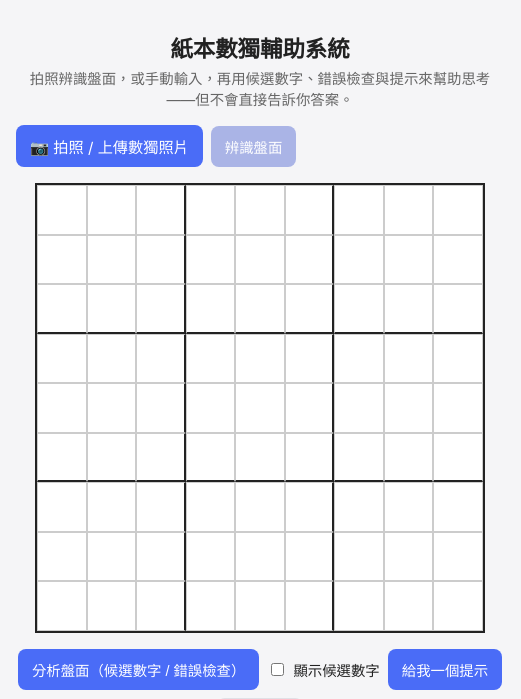
App › shows the hint message returned by the API
Click the button "分析盤面（候選數字 / 錯誤檢查）": (139, 670) [18, 649, 259, 690]
(page scrolled)
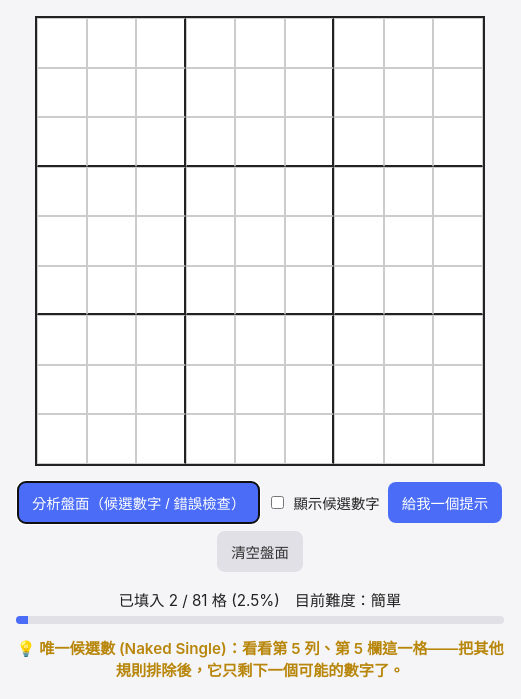
Result: the text "💡 唯一候選數 (Naked Single)：看看第 5 列、第 5 欄這一格——把其他規則排除後，它只剩下一個可能的數字了。" is shown at [16, 636, 504, 680]
